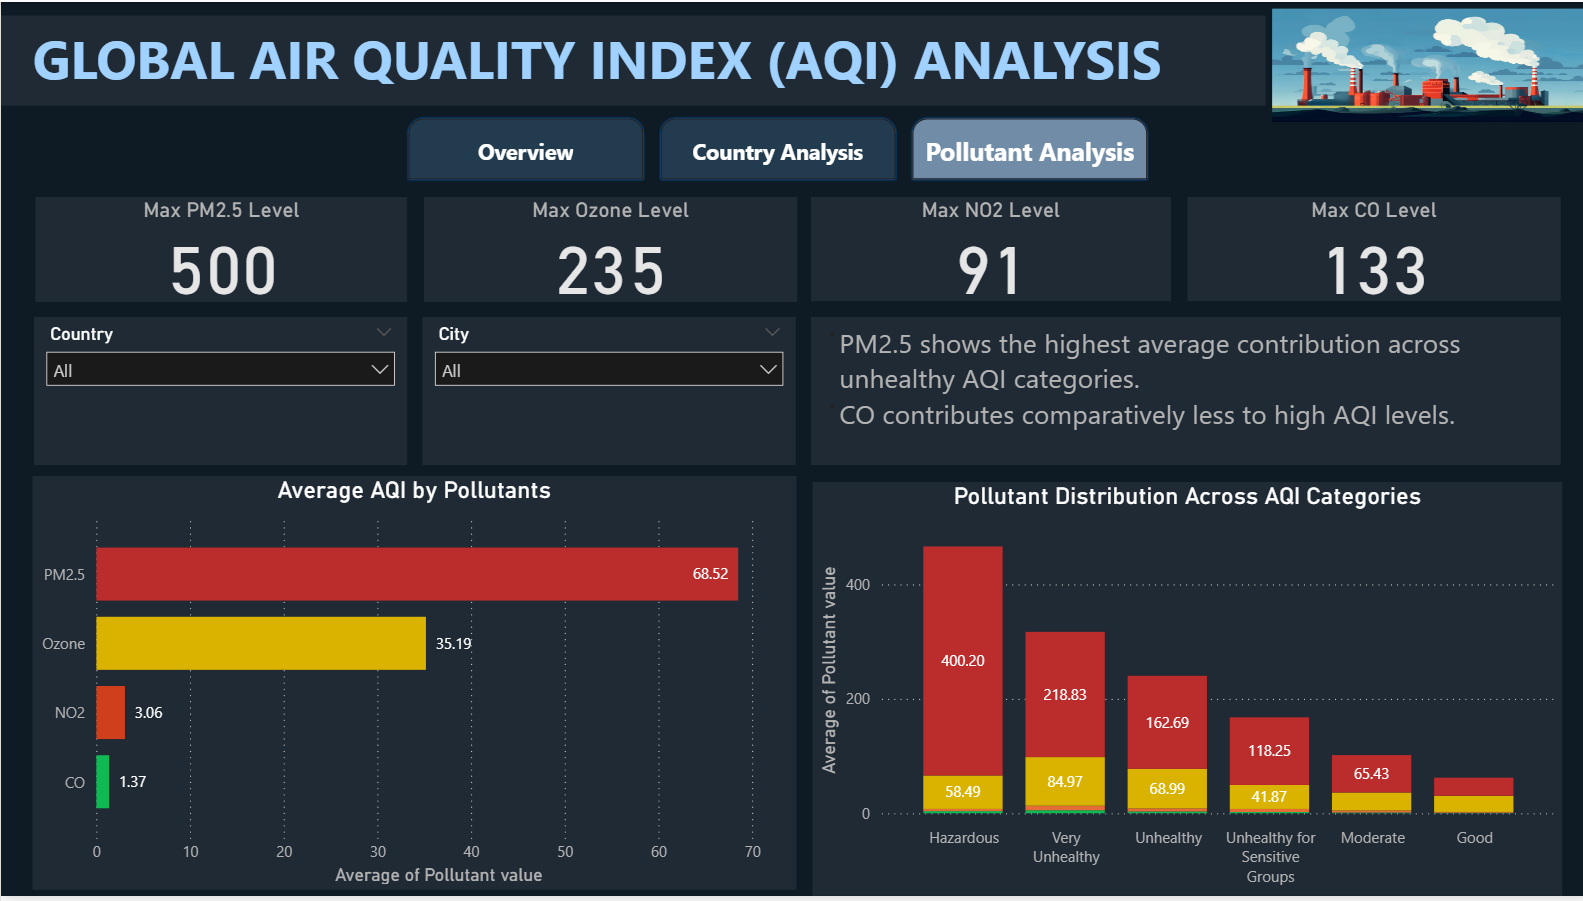

This screenshot's page, from the dashboard's own definition file:
{"tool":"powerbi","page":{"name":"Pollutant Analysis","canvas":[1280,720],"ordinal":2},"visuals":[{"type":"pageNavigator","box":[326.2,91.8,600.5,53.2],"z":0},{"type":"image","box":[1018.6,0,261,101.5],"z":1000},{"type":"clusteredBarChart","title":"Average AQI by Pollutants","fields":{"Category":["global_air_pollution_data.Pollutant"],"Y":["Avg(global_air_pollution_data.Pollutant Value)"]},"box":[25.4,381.8,615,333.5],"z":2000},{"type":"slicer","fields":{"Values":["global_air_pollution_data.country_name"]},"box":[26.6,253.7,300.9,119.6],"z":3000},{"type":"slicer","fields":{"Values":["global_air_pollution_data.city_name"]},"box":[339.5,253.7,300.9,119.6],"z":4000},{"type":"textbox","box":[0,10.9,1018.6,72.5],"z":5000},{"type":"columnChart","title":"Pollutant Distribution Across AQI Categories","fields":{"Category":["global_air_pollution_data.aqi_category"],"Y":["Avg(global_air_pollution_data.Pollutant Value)"],"Series":["global_air_pollution_data.Pollutant"]},"box":[653.7,386.7,604.2,333.5],"z":6000},{"type":"textbox","box":[652.5,253.7,604.2,119.6],"z":7000},{"type":"card","title":"Max PM2.5 Level","fields":{"Values":["Max(global_air_pollution_data.Pollutant value)"]},"box":[27.8,157.1,299.7,84.6],"z":8000},{"type":"card","title":"Max NO2 Level","fields":{"Values":["Max(global_air_pollution_data.Pollutant Value)"]},"box":[653,156.8,289.7,84.3],"z":9000},{"type":"card","title":"Max CO Level","fields":{"Values":["Max(global_air_pollution_data.Pollutant Value)"]},"box":[955.7,156.8,300.5,84.3],"z":10000},{"type":"card","title":"Max Ozone Level","fields":{"Values":["Max(global_air_pollution_data.Pollutant Value)"]},"box":[340.7,157.1,300.9,84.6],"z":11000}]}

Visuals, with their boxes in screenshot pixels (x1, y1, x2, y2), scaled from the page's 1280x720 canvas onto the 1583x901 screenshot:
pageNavigator: Rect(403, 115, 1146, 181)
image: Rect(1260, 0, 1582, 127)
"Average AQI by Pollutants" clusteredBarChart: Rect(31, 478, 792, 895)
slicer - global_air_pollution_data.country_name: Rect(33, 317, 405, 467)
slicer - global_air_pollution_data.city_name: Rect(420, 317, 792, 467)
textbox: Rect(0, 14, 1260, 104)
"Pollutant Distribution Across AQI Categories" columnChart: Rect(808, 484, 1556, 900)
textbox: Rect(807, 317, 1554, 467)
"Max PM2.5 Level" card: Rect(34, 197, 405, 302)
"Max NO2 Level" card: Rect(808, 196, 1166, 302)
"Max CO Level" card: Rect(1182, 196, 1554, 302)
"Max Ozone Level" card: Rect(421, 197, 793, 302)
